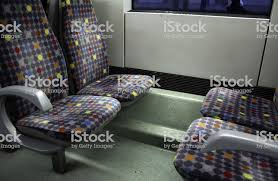seat: (63, 21, 151, 101)
